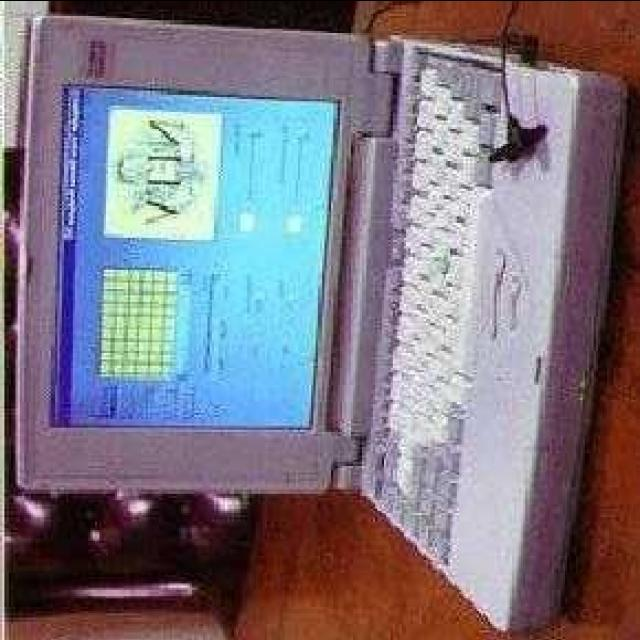laptop: (18, 25, 636, 495)
